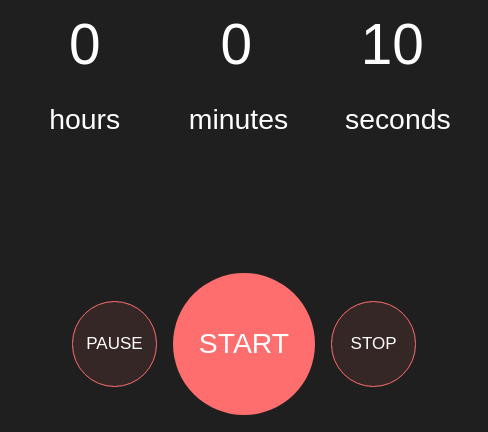
it: Timer Component › should update the time left correctly
This screenshot has width=488, height=432.
Click the button "start": (244, 344) [173, 273, 315, 415]
Wait 3000 ms
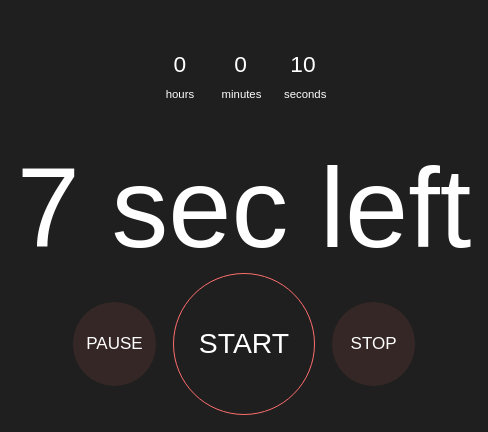
Check: the text "7 sec left" is shown, box [17, 142, 471, 273]
